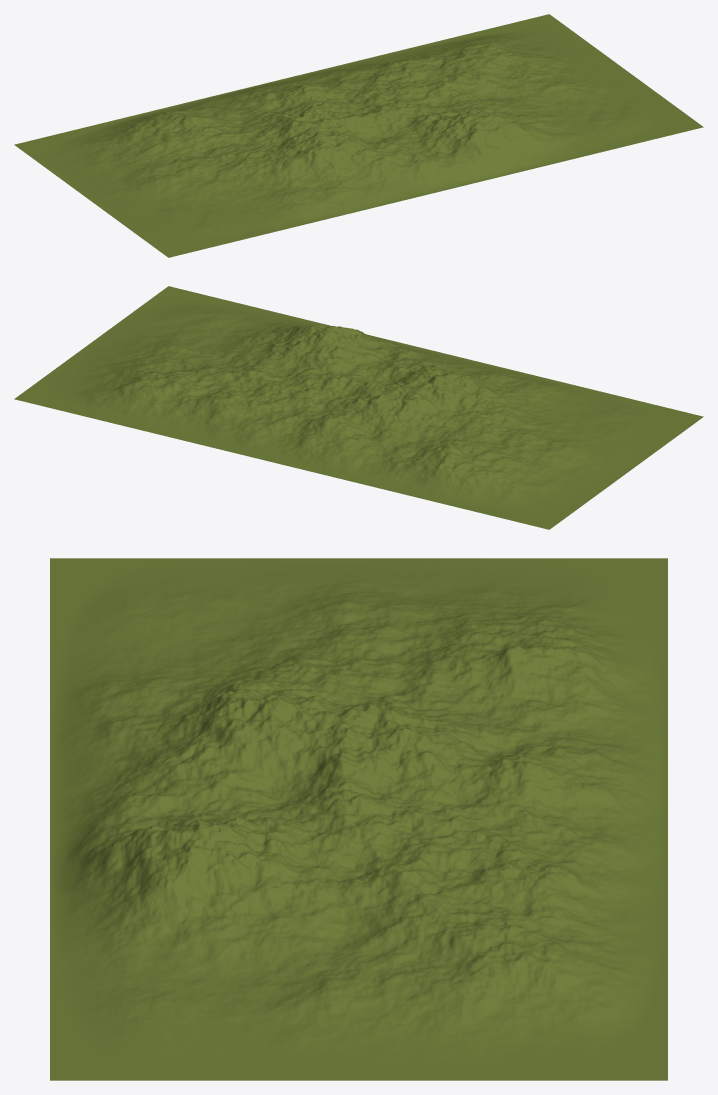
The model's file is terrain.fbx.
3 renders of one model, top to bottom at view 1: azimuth 30°, elevation 25°; view 2: azimuth 150°, elevation 25°; view 3: azimuth 270°, elevation 25°, orthographic. The views are drawn at different scales.
Parts seen in each view (by area): view 1: Landscape.003; view 2: Landscape.003; view 3: Landscape.003.
Boxes of the visible parts, bbox=[...] form: Landscape.003: bbox=[14, 14, 703, 257]; Landscape.003: bbox=[14, 286, 703, 529]; Landscape.003: bbox=[50, 558, 667, 1080].
Size of the model in its own units: 1000 by 56.71 by 500.
